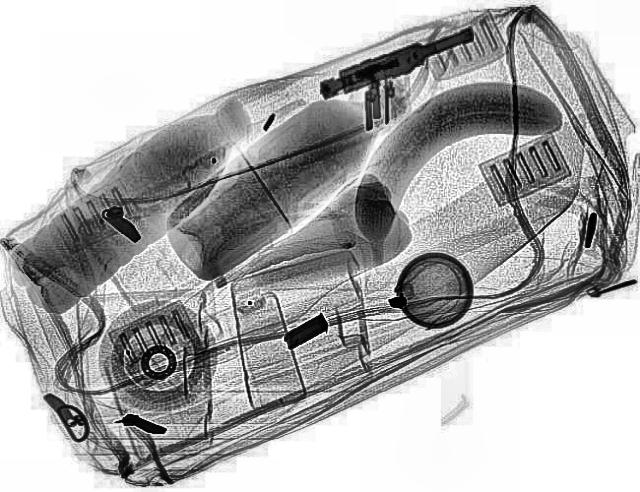Gun: (308, 20, 482, 102)
